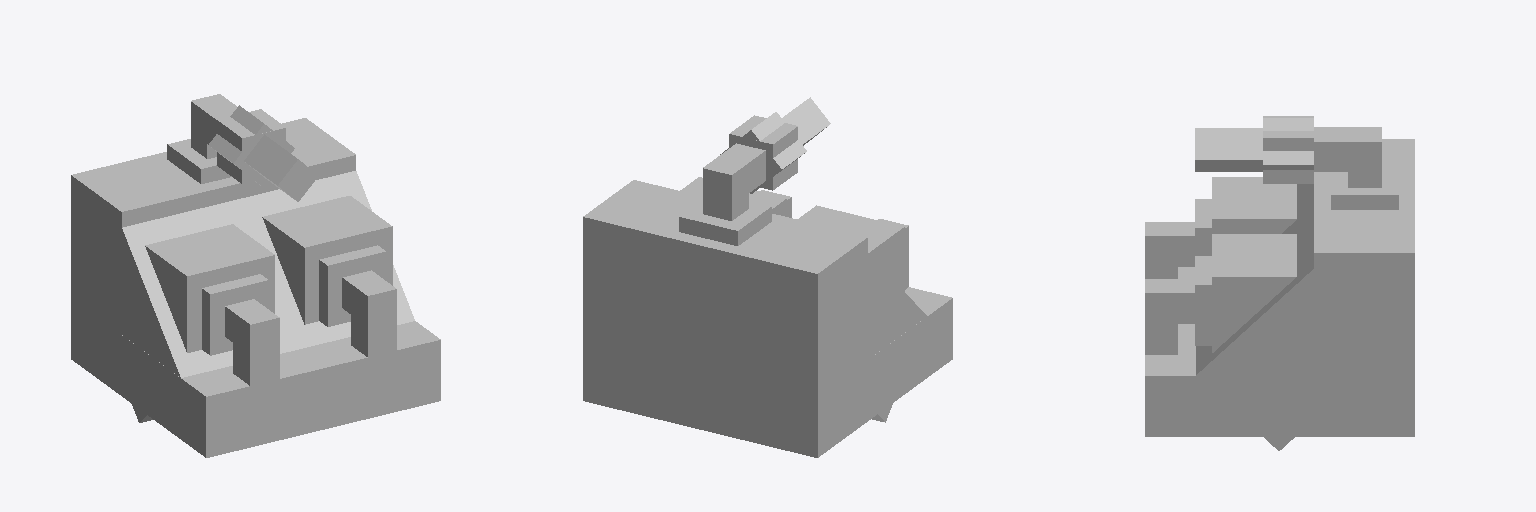
File: charger.obj
3 views of the same model, side by side, from view 1: azimuth 30°, elevation 25°; view 2: azimuth 150°, elevation 25°; view 3: azimuth 270°, elevation 25° (orthographic).
Visible parts, largest first — view 1: InflatorBase, inflatorBox1, inflatorBox2, cylinderBodyE, cylinderBodyW, cylinderPipe2W, cylinderPipe2E, cylinderNeckE, cylinderNeckW, NozzleHead3, NozzleHead1, NozzleBase (+2 smaller); view 2: inflatorBox1, InflatorBase, inflatorBox2, cylinderBodyW, NozzlePipe1, NozzleBase, NozzleHead1, NozzleHead3, NozzleHead2, NozzlePipe2, cylinderBodyE; view 3: inflatorBox1, InflatorBase, inflatorBox2, cylinderBodyE, cylinderBodyW, NozzleHead3, cylinderPipe2E, NozzleBase, NozzlePipe1, cylinderPipe2W, NozzleHead1, NozzleHead2 (+5 smaller).
Boxes of the visible parts, box(x1,y1,x2,y2) form: InflatorBase: box(71, 298, 440, 457); inflatorBox1: box(71, 118, 355, 334); inflatorBox2: box(122, 171, 414, 422); cylinderBodyE: box(262, 196, 392, 324); cylinderBodyW: box(145, 224, 274, 352); cylinderPipe2W: box(233, 305, 279, 385); cylinderPipe2E: box(351, 277, 396, 356); cylinderNeckE: box(319, 245, 385, 326); cylinderNeckW: box(202, 274, 268, 355); NozzleHead3: box(244, 134, 318, 201); NozzleHead1: box(217, 109, 285, 183); NozzleBase: box(167, 139, 231, 183); inflatorBox1: box(583, 180, 867, 396); InflatorBase: box(583, 287, 952, 457); inflatorBox2: box(868, 253, 926, 422); cylinderBodyW: box(797, 205, 904, 291); NozzlePipe1: box(703, 156, 748, 220); NozzleBase: box(679, 200, 771, 245); NozzleHead1: box(729, 115, 797, 190); NozzleHead3: box(782, 97, 830, 145); NozzleHead2: box(720, 112, 806, 193); NozzlePipe2: box(720, 143, 765, 192); cylinderBodyE: box(680, 177, 786, 216); inflatorBox1: box(1314, 139, 1414, 375); InflatorBase: box(1145, 267, 1414, 436); inflatorBox2: box(1196, 184, 1313, 450); cylinderBodyE: box(1212, 234, 1296, 352); cylinderBodyW: box(1212, 177, 1296, 233); NozzleHead3: box(1195, 128, 1262, 171); cylinderPipe2E: box(1145, 279, 1177, 354); NozzleBase: box(1331, 166, 1398, 209); NozzlePipe1: box(1348, 127, 1381, 187); cylinderPipe2W: box(1145, 222, 1177, 278); NozzleHead1: box(1263, 116, 1313, 183); NozzleHead2: box(1263, 118, 1313, 169).
Bounding box in the file's own units: 1 × 1.13 × 1.